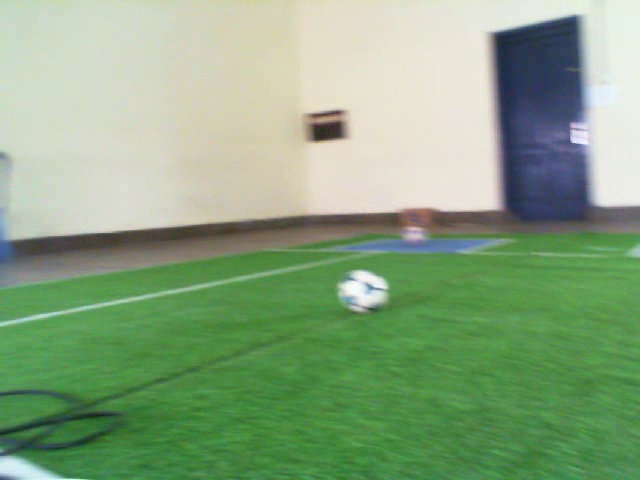ball: (336, 267, 392, 315)
